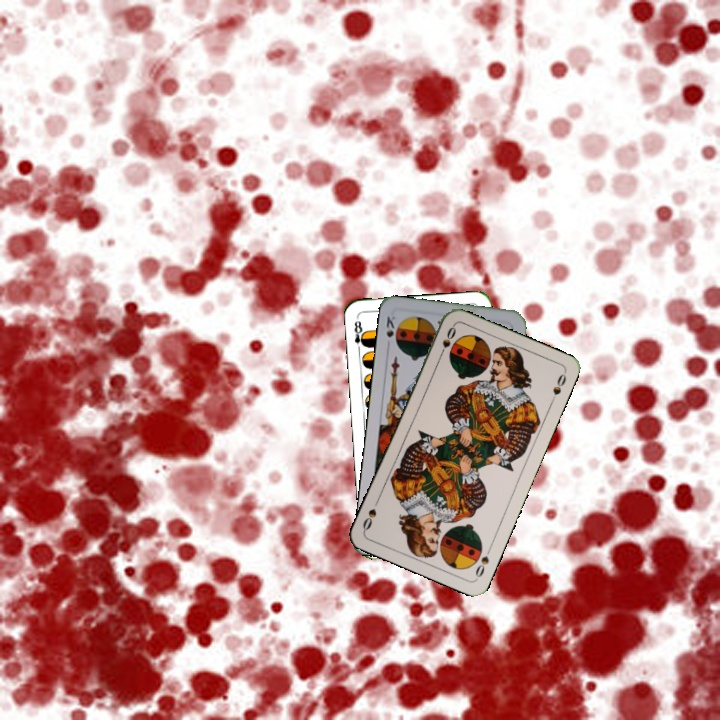E8: (350, 317, 369, 354)
SK: (382, 312, 398, 351)
SO: (435, 322, 458, 360), (471, 542, 494, 580)
